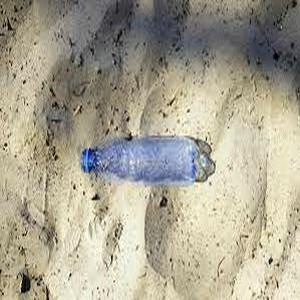Plastic: (77, 133, 204, 188)
